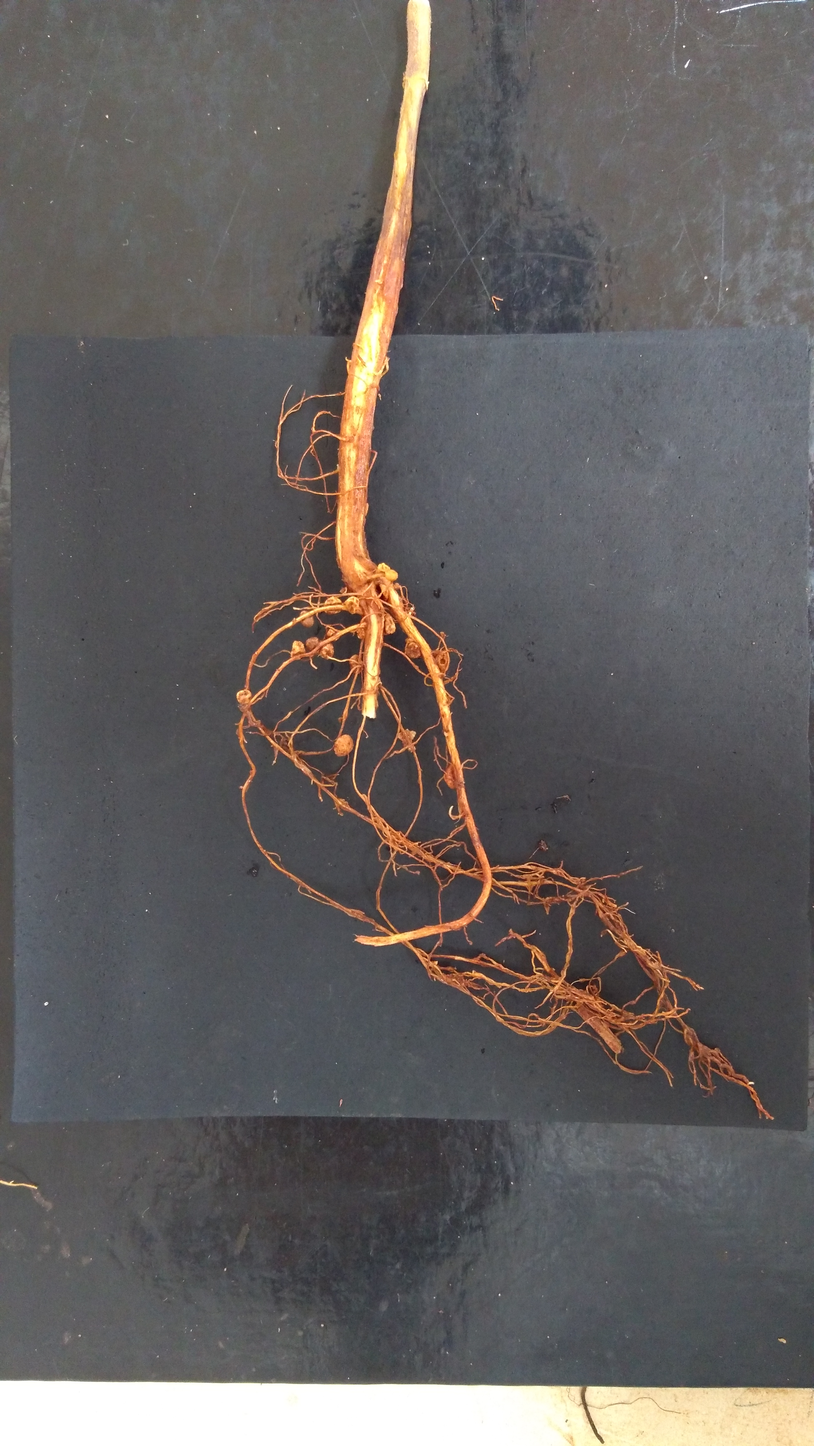nodule: (305, 637, 334, 660), (396, 728, 416, 754), (431, 649, 450, 676), (333, 735, 355, 758), (680, 1026, 701, 1046), (442, 762, 456, 789), (377, 562, 391, 588), (405, 637, 421, 659), (383, 612, 397, 636), (324, 597, 342, 615), (349, 654, 364, 674), (290, 641, 306, 659), (345, 596, 360, 615), (236, 689, 252, 706), (300, 610, 315, 628), (377, 583, 390, 602), (326, 627, 341, 642), (384, 569, 398, 581), (356, 624, 366, 640), (364, 502, 370, 517), (340, 587, 349, 595), (393, 583, 400, 590), (439, 631, 446, 638), (714, 1047, 720, 1053), (338, 716, 343, 723)
